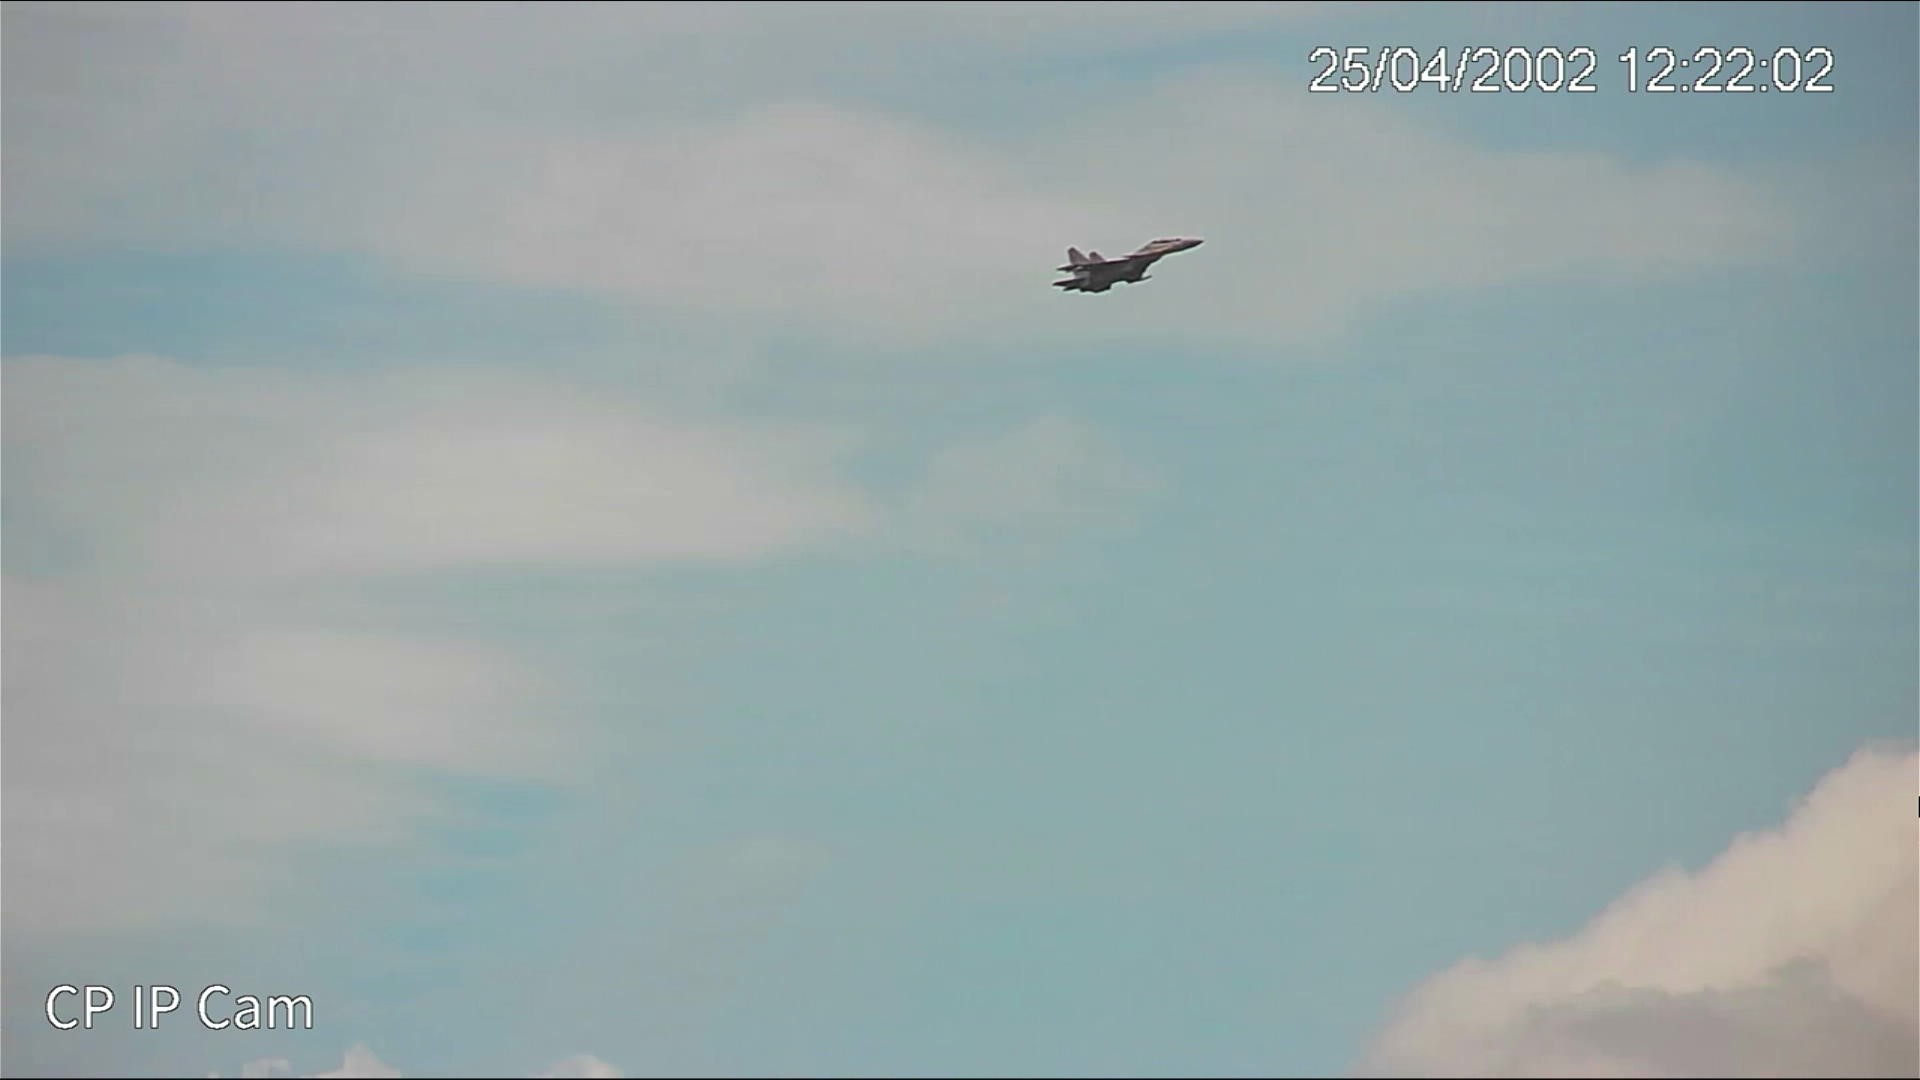SU_30: (1059, 233, 1207, 294)
